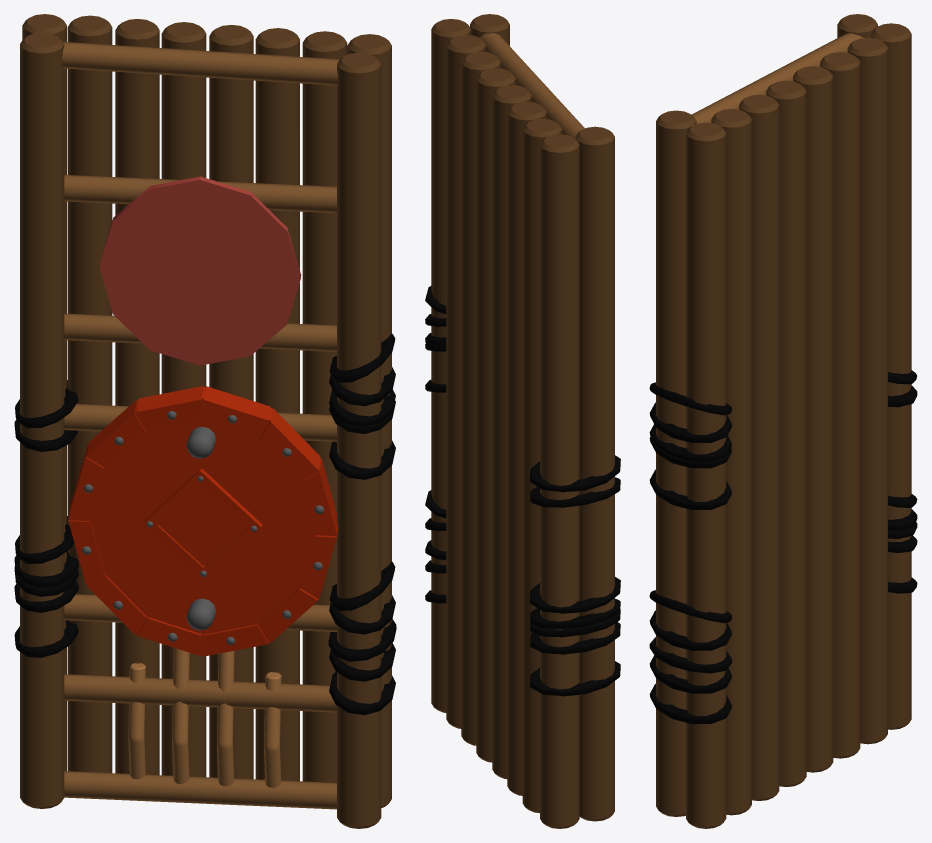
File: GateBasic.fbx
The picture shows the model from 3 angles, left to right: view 1: azimuth 30°, elevation 25°; view 2: azimuth 150°, elevation 25°; view 3: azimuth 270°, elevation 25°; orthographic projection. The views are drawn at different scales.
Parts seen in each view (by area): view 1: Shield, Post, Post2, Circle, Post16, Post11, polySurface4, Post12, Post15, Post13, Post14, Brace8 (+12 smaller); view 2: Post10, Post, Post13, Post16, Post15, Post11, Post12, Post14, Post8, polySurface4, Brace8, Post2; view 3: Post8, Post16, Post14, Post12, Post15, Post13, Post2, Post11, Post10, polySurface4, Brace8, Post.
Part boxes in pixels (left/top/right/bottom): Shield: left=68, top=386, right=338, bottom=656; Post: left=20, top=32, right=64, bottom=808; Post2: left=337, top=52, right=381, bottom=828; Circle: left=99, top=176, right=301, bottom=365; Post16: left=67, top=15, right=112, bottom=772; Post11: left=302, top=31, right=347, bottom=782; polySurface4: left=14, top=333, right=396, bottom=714; Post12: left=255, top=28, right=299, bottom=781; Post15: left=115, top=19, right=159, bottom=775; Post13: left=209, top=25, right=253, bottom=779; Post14: left=161, top=22, right=206, bottom=777; Brace8: left=62, top=42, right=339, bottom=85; Post10: left=540, top=134, right=579, bottom=828; Post: left=575, top=126, right=614, bottom=821; Post13: left=476, top=68, right=515, bottom=762; Post16: left=522, top=118, right=562, bottom=812; Post15: left=507, top=101, right=546, bottom=795; Post11: left=446, top=34, right=485, bottom=728; Post12: left=461, top=51, right=501, bottom=745; Post14: left=492, top=85, right=531, bottom=778; Post8: left=431, top=19, right=471, bottom=712; polySurface4: left=425, top=286, right=620, bottom=696; Brace8: left=479, top=33, right=584, bottom=138; Post2: left=470, top=14, right=509, bottom=45; Post8: left=686, top=122, right=726, bottom=828; Post16: left=847, top=37, right=887, bottom=744; Post14: left=793, top=66, right=833, bottom=772; Post12: left=739, top=94, right=779, bottom=800; Post15: left=820, top=52, right=860, bottom=758; Post13: left=766, top=80, right=806, bottom=786; Post2: left=656, top=110, right=696, bottom=816; Post11: left=711, top=109, right=751, bottom=815; Post10: left=871, top=23, right=911, bottom=729; polySurface4: left=649, top=370, right=917, bottom=724; Brace8: left=691, top=33, right=863, bottom=123; Post: left=837, top=14, right=877, bottom=37.
Bounding box in the file's own units: 15.07 × 37.75 × 13.24.
